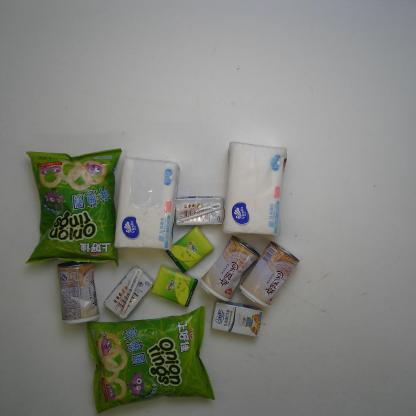Canned Food: (198, 234, 264, 306), (238, 239, 302, 311), (54, 254, 102, 327)
Milk: (101, 264, 158, 322), (209, 297, 268, 341), (169, 190, 227, 228)
Puffed Food: (83, 300, 219, 414), (19, 144, 131, 270)
Tissue: (109, 151, 183, 255), (222, 139, 292, 238), (163, 224, 216, 273), (151, 261, 200, 308)
